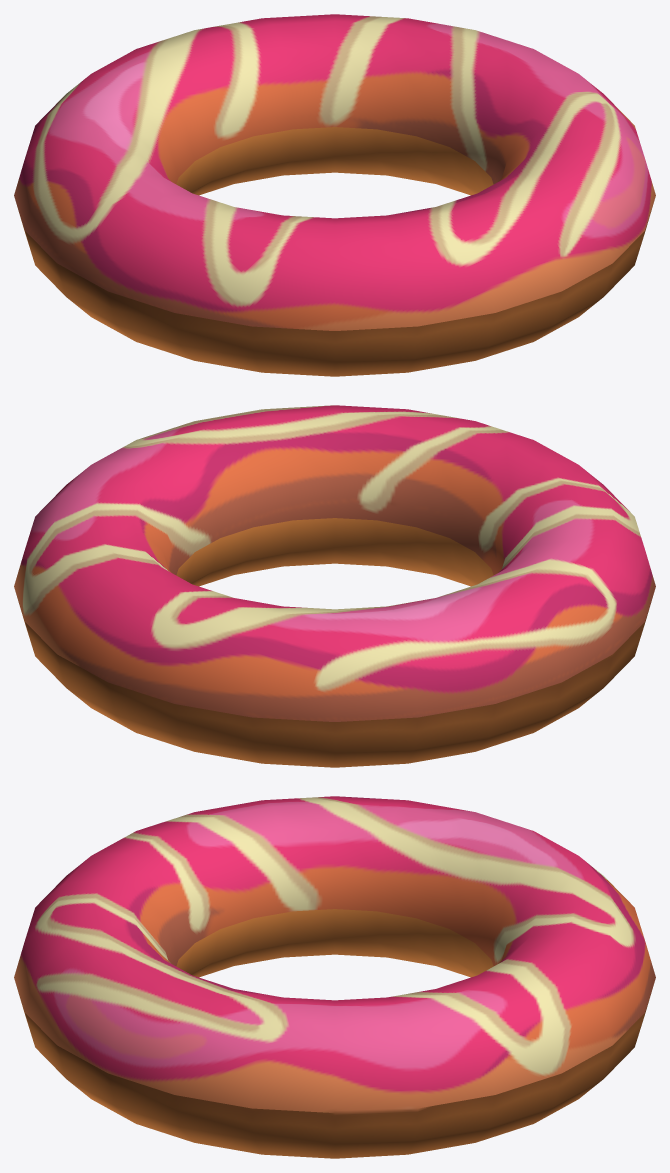
Rendered from donut-ring-1.fbx.
3 views of the same model, one above another, from view 1: azimuth 30°, elevation 25°; view 2: azimuth 150°, elevation 25°; view 3: azimuth 270°, elevation 25° (orthographic).
Visible parts, largest first — view 1: Torus001; view 2: Torus001; view 3: Torus001.
Part boxes in pixels (x1,y1,x2,y2): Torus001: (14,14,655,376); Torus001: (14,405,655,767); Torus001: (14,796,655,1158).
Bounding box in the file's own units: 59.35 × 14.7 × 59.35.
1 material, 1 textured.
